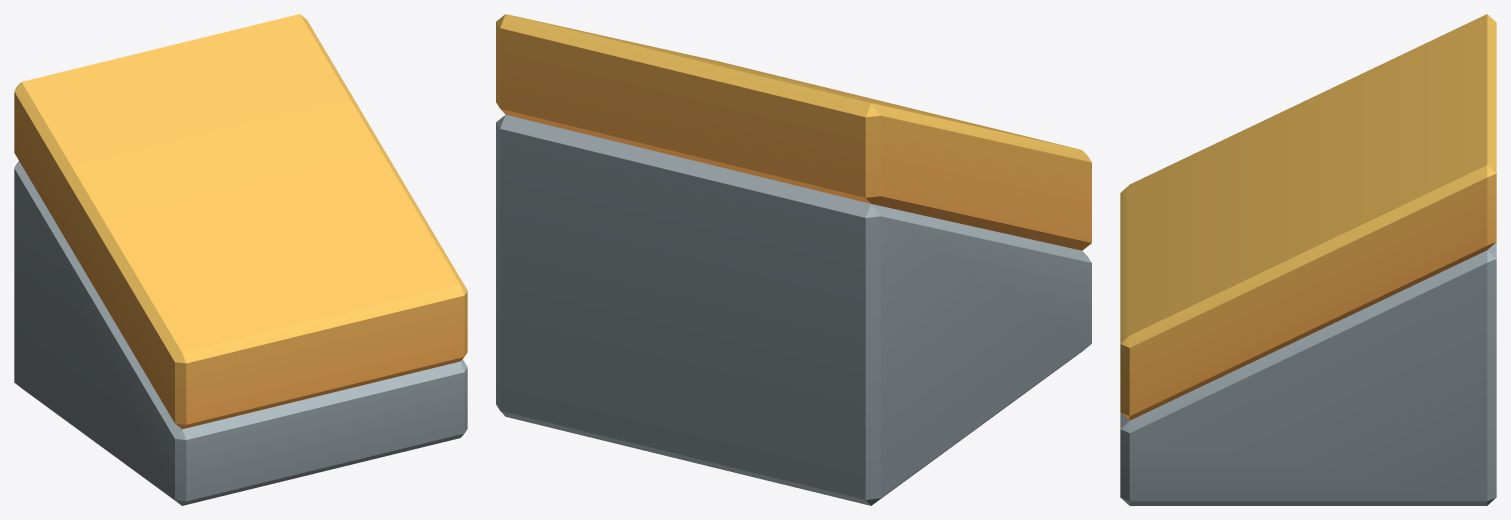
Rendered from platform_slope_2x2x2_yellow.glb.
3 renders of one model, left to right at view 1: azimuth 30°, elevation 25°; view 2: azimuth 150°, elevation 25°; view 3: azimuth 270°, elevation 25°, orthographic. The views are drawn at different scales.
Visible parts, largest first — view 1: platform_slope_2x2x2_yellow; view 2: platform_slope_2x2x2_yellow; view 3: platform_slope_2x2x2_yellow.
Boxes of the visible parts, x1=… form: platform_slope_2x2x2_yellow: x1=14, y1=14, x2=467, y2=505; platform_slope_2x2x2_yellow: x1=496, y1=14, x2=1091, y2=505; platform_slope_2x2x2_yellow: x1=1120, y1=14, x2=1496, y2=505.
Size of the model in its own units: 2 by 2 by 2.
Materials: 1 (1 with a texture image).
